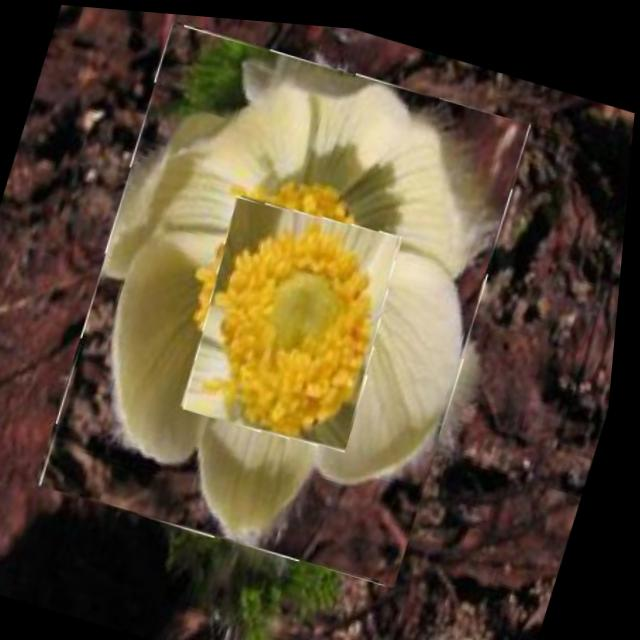Flower: (37, 10, 542, 590), (179, 183, 414, 453)
